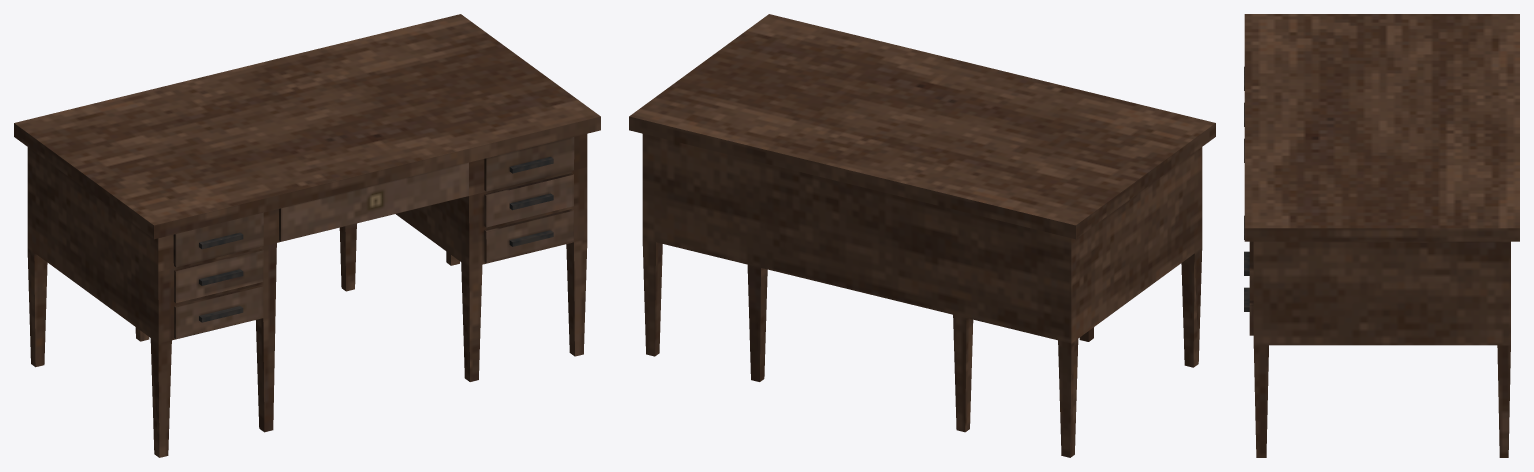
File: table_desk.fbx
3 renders of one model, left to right at view 1: azimuth 30°, elevation 25°; view 2: azimuth 150°, elevation 25°; view 3: azimuth 270°, elevation 25°, orthographic.
Parts seen in each view (by area): view 1: table_desk; view 2: table_desk; view 3: table_desk.
Boxes of the visible parts, x1,y1,x2,y2 form: table_desk: [14, 14, 600, 457]; table_desk: [629, 14, 1215, 457]; table_desk: [1244, 14, 1519, 457].
Bounding box in the file's own units: 152 × 78.08 × 82.99.
Materials: 1 (1 with a texture image).
